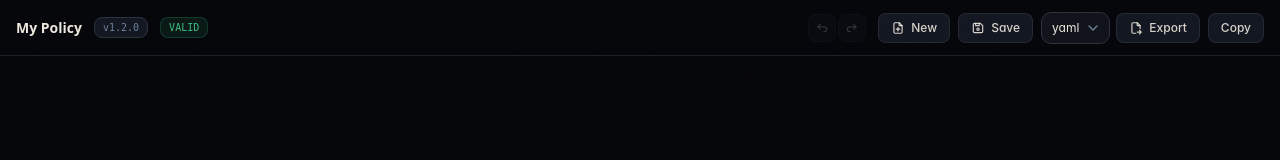
Test: WorkbenchTopbar › commits name change on Enter key
// Enter edit mode
Click the button "My Policy".
click(49, 28)  # box [16, 18, 82, 38]
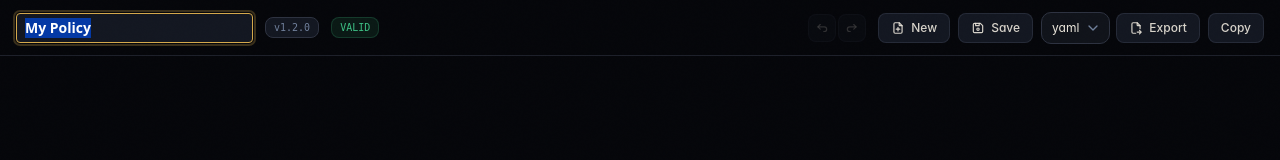
// Clear and type new name
Replace the text in the field showing "My Policy" with "New Policy Name" at [134, 28], box [16, 12, 253, 42]
Then press Enter
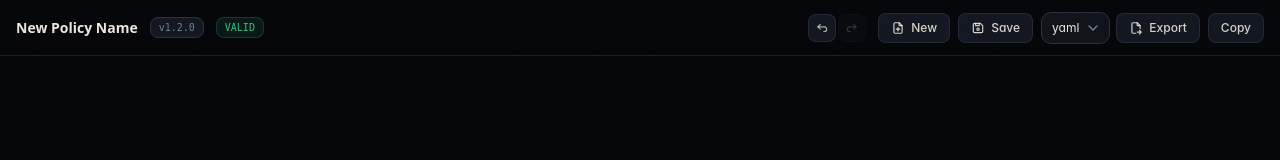
Check: the button "New Policy Name" is shown, box [16, 18, 138, 38]
